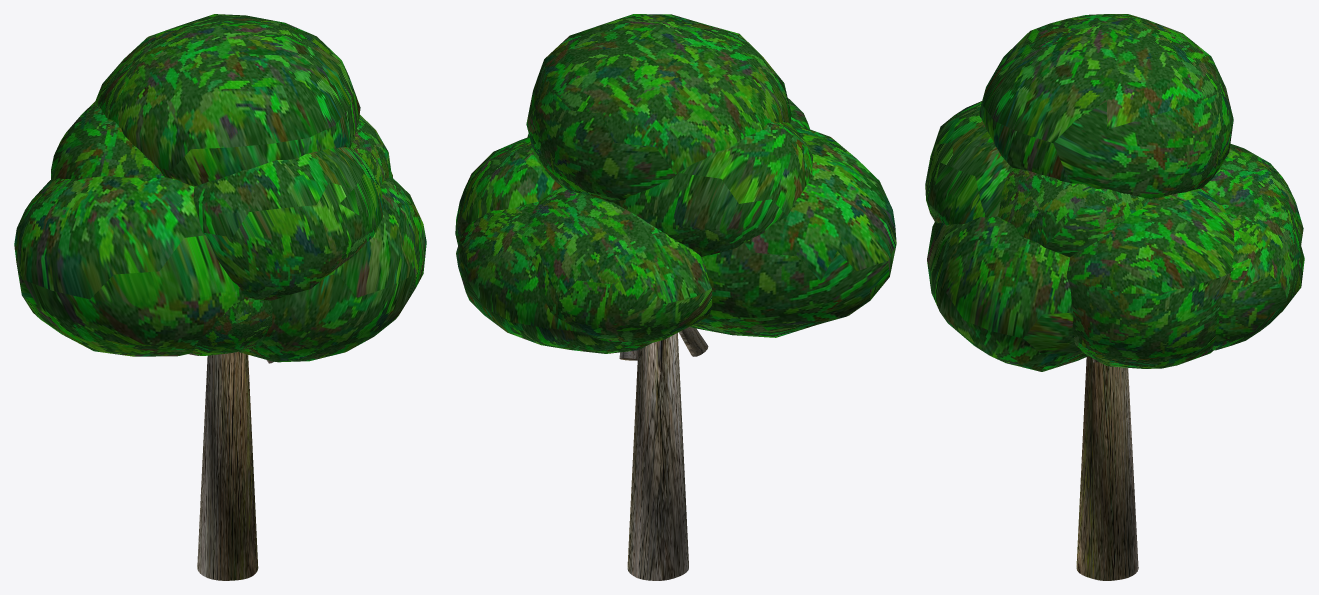
Rendered from tree_oak.glb.
3 views of the same model, side by side, from view 1: azimuth 30°, elevation 25°; view 2: azimuth 150°, elevation 25°; view 3: azimuth 270°, elevation 25° (orthographic).
Visible parts, largest first — view 1: Canopy_top, Canopy_6, Canopy_8, Canopy_9, Trunk, Canopy_5, Canopy_7, Canopy_10; view 2: Canopy_top, Canopy_6, Canopy_3, Canopy_5, Trunk, Canopy_2, Canopy_1; view 3: Canopy_top, Canopy_1, Canopy_9, Trunk, Canopy_2, Canopy_10, Canopy_8, Canopy_3.
Part boxes in pixels (box(x1,y1,x2,y2)): Canopy_top: box(95, 14, 360, 186); Canopy_6: box(14, 176, 244, 356); Canopy_8: box(193, 147, 383, 300); Canopy_9: box(239, 177, 426, 362); Trunk: box(197, 351, 258, 580); Canopy_5: box(51, 101, 164, 181); Canopy_7: box(192, 296, 272, 355); Canopy_10: box(350, 114, 392, 185); Canopy_top: box(526, 14, 791, 202); Canopy_6: box(690, 122, 896, 337); Canopy_3: box(522, 186, 712, 345); Canopy_5: box(614, 121, 813, 256); Trunk: box(627, 333, 688, 580); Canopy_2: box(456, 201, 651, 353); Canopy_1: box(455, 137, 561, 245); Canopy_top: box(979, 14, 1233, 198); Canopy_1: box(1066, 187, 1234, 368); Canopy_9: box(927, 216, 1087, 371); Trunk: box(1076, 356, 1138, 580); Canopy_2: box(1212, 204, 1304, 350); Canopy_10: box(998, 168, 1150, 257); Canopy_8: box(925, 101, 1012, 225); Canopy_3: box(1203, 143, 1303, 244).
Bounding box in the file's own units: 4.65 × 6.17 × 3.91.
Materials: 2 (2 with a texture image).
